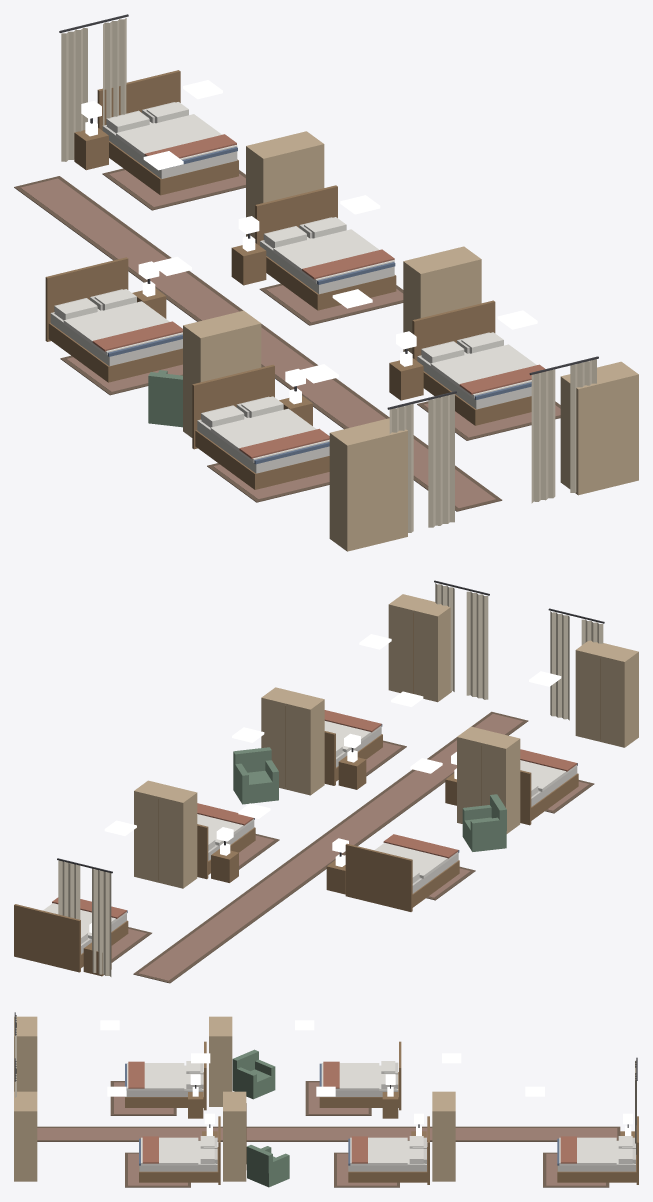
The model's file is fine-s2.glb.
The picture shows the model from 3 angles, top to bottom: view 1: azimuth 30°, elevation 25°; view 2: azimuth 150°, elevation 25°; view 3: azimuth 270°, elevation 25°; orthographic projection. The views are drawn at different scales.
Parts seen in each view (by area): view 1: soft-s2, dresser.006, dresser.009, bed-frame.005, bed-frame.006, bed-frame.008, bed-frame.007, bed-frame.009, dresser.005, dresser.008, dresser.007, lounge-chair.002 (+3 smaller); view 2: soft-s2, dresser.007, dresser.006, dresser.009, dresser.008, dresser.005, bed-frame.005, bed-frame.007, lounge-chair.003, lounge-chair.002, bed-frame.006, bed-frame.009 (+4 smaller); view 3: soft-s2, dresser.007, dresser.008, dresser.009, dresser.005, bed-frame.008, bed-frame.007, bed-frame.009, dresser.006, lounge-chair.002, bed-frame.006, bed-frame.005 (+3 smaller).
Part boxes in pixels (box(x1,y1,x2,y2)): soft-s2: box(14, 14, 598, 532); dresser.006: box(329, 418, 407, 551); dresser.009: box(560, 361, 638, 495); bed-frame.005: box(45, 257, 182, 382); bed-frame.006: box(192, 364, 329, 489); bed-frame.008: box(255, 185, 396, 310); bed-frame.007: box(97, 70, 238, 195); bed-frame.009: box(412, 300, 531, 425); dresser.005: box(183, 310, 261, 437); dresser.008: box(403, 246, 481, 353); dresser.007: box(246, 131, 324, 238); lounge-chair.002: box(148, 370, 182, 427); soft-s2: box(43, 580, 604, 983); dresser.007: box(134, 780, 197, 888); dresser.006: box(575, 640, 638, 747); dresser.009: box(388, 594, 451, 702); dresser.008: box(261, 687, 324, 795); dresser.005: box(457, 726, 520, 833); bed-frame.005: box(345, 843, 459, 911); bed-frame.007: box(14, 904, 128, 972); lounge-chair.003: box(233, 747, 278, 804); lounge-chair.002: box(462, 794, 506, 851); bed-frame.006: box(520, 763, 578, 825); bed-frame.009: box(324, 724, 382, 785); soft-s2: box(14, 1012, 637, 1187); dresser.007: box(432, 1091, 455, 1181); dresser.008: box(223, 1091, 246, 1181); dresser.009: box(14, 1091, 37, 1181); dresser.005: box(209, 1016, 232, 1106); bed-frame.008: box(348, 1116, 429, 1184); bed-frame.007: box(557, 1116, 638, 1184); bed-frame.009: box(139, 1116, 220, 1184); dresser.006: box(14, 1016, 37, 1091); lounge-chair.002: box(232, 1049, 275, 1099); bed-frame.006: box(125, 1041, 206, 1110); bed-frame.005: box(319, 1041, 401, 1110).
Bounding box in the file's own units: 6.46 × 2.51 × 16.08.
